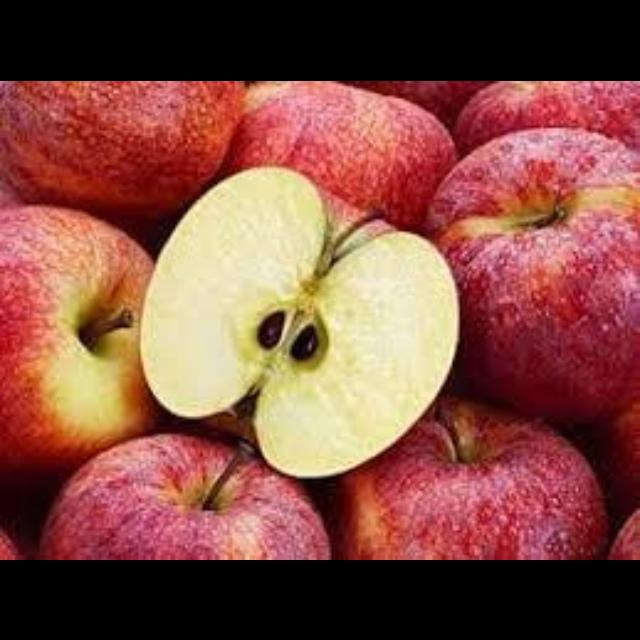apple: (141, 166, 457, 475), (423, 127, 638, 421), (331, 396, 605, 557), (0, 206, 156, 480), (40, 433, 329, 557), (220, 80, 455, 228), (0, 80, 242, 216), (455, 80, 638, 152), (343, 80, 492, 124), (588, 399, 638, 517), (608, 507, 638, 557)
